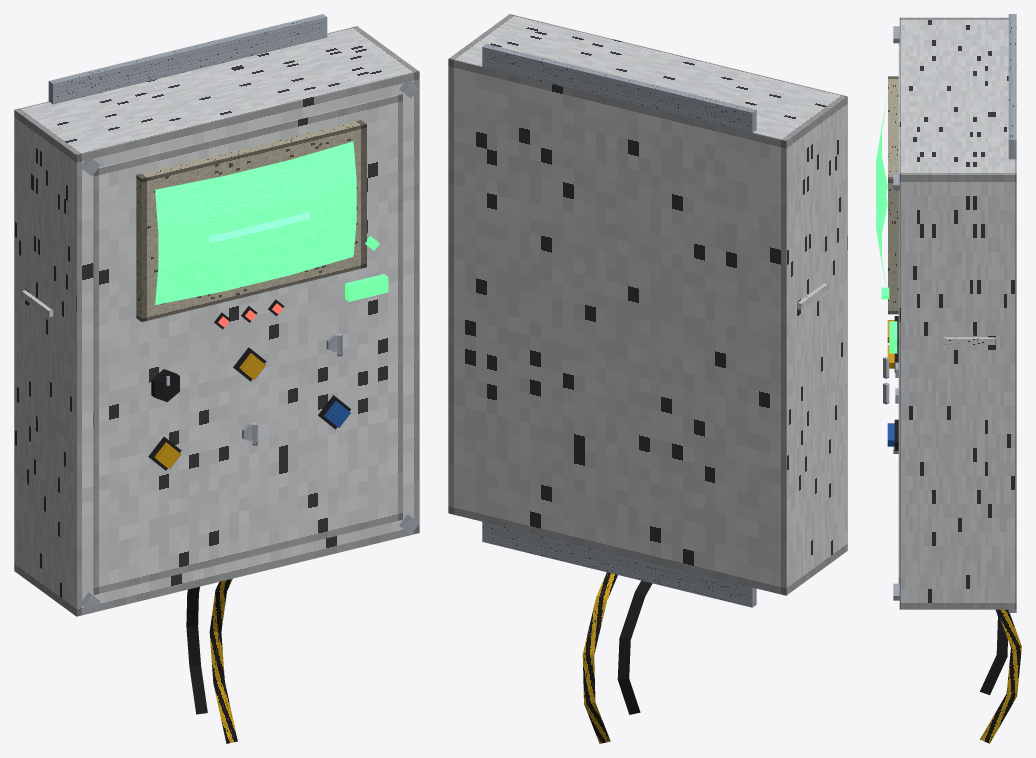
File: electrical_panel_medbay_clean.glb
The picture shows the model from 3 angles, left to right: view 1: azimuth 30°, elevation 25°; view 2: azimuth 150°, elevation 25°; view 3: azimuth 270°, elevation 25°; orthographic projection. The views are drawn at different scales.
Visible parts, largest first — view 1: electrical_panel_medbay_clean; view 2: electrical_panel_medbay_clean; view 3: electrical_panel_medbay_clean.
Boxes of the visible parts, x1,y1,x2,y2 form: electrical_panel_medbay_clean: [14, 14, 419, 743]; electrical_panel_medbay_clean: [448, 14, 847, 743]; electrical_panel_medbay_clean: [876, 14, 1021, 743].
Bounding box in the file's own units: 0.716 × 1.35 × 0.2739.
Materials: 14 (14 with a texture image).
